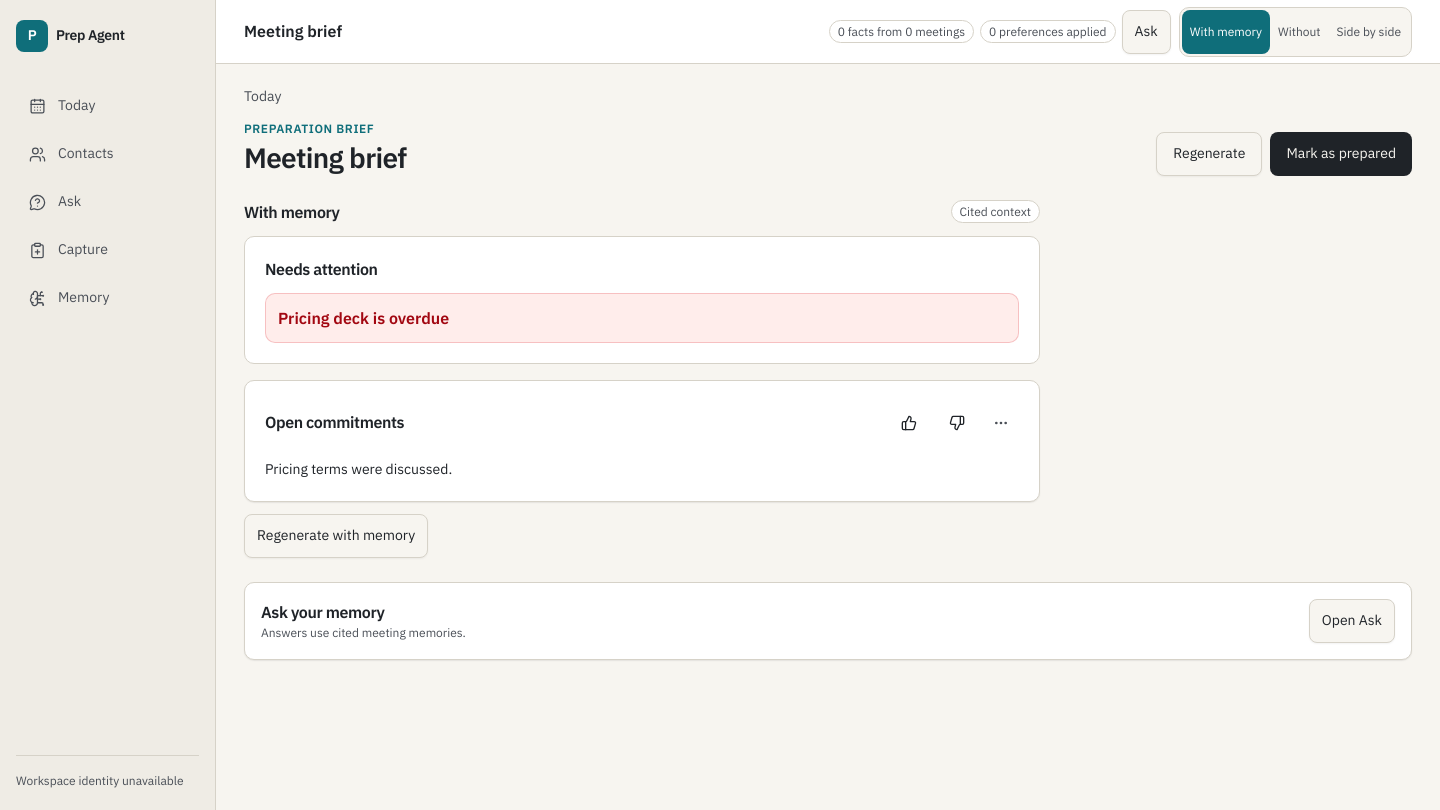
Scenario: Brief page › sends section feedback and refreshes the read-time brief
Click the button named "Thumbs up: useful" at {"x": 909, "y": 423}, box [887, 401, 931, 445]
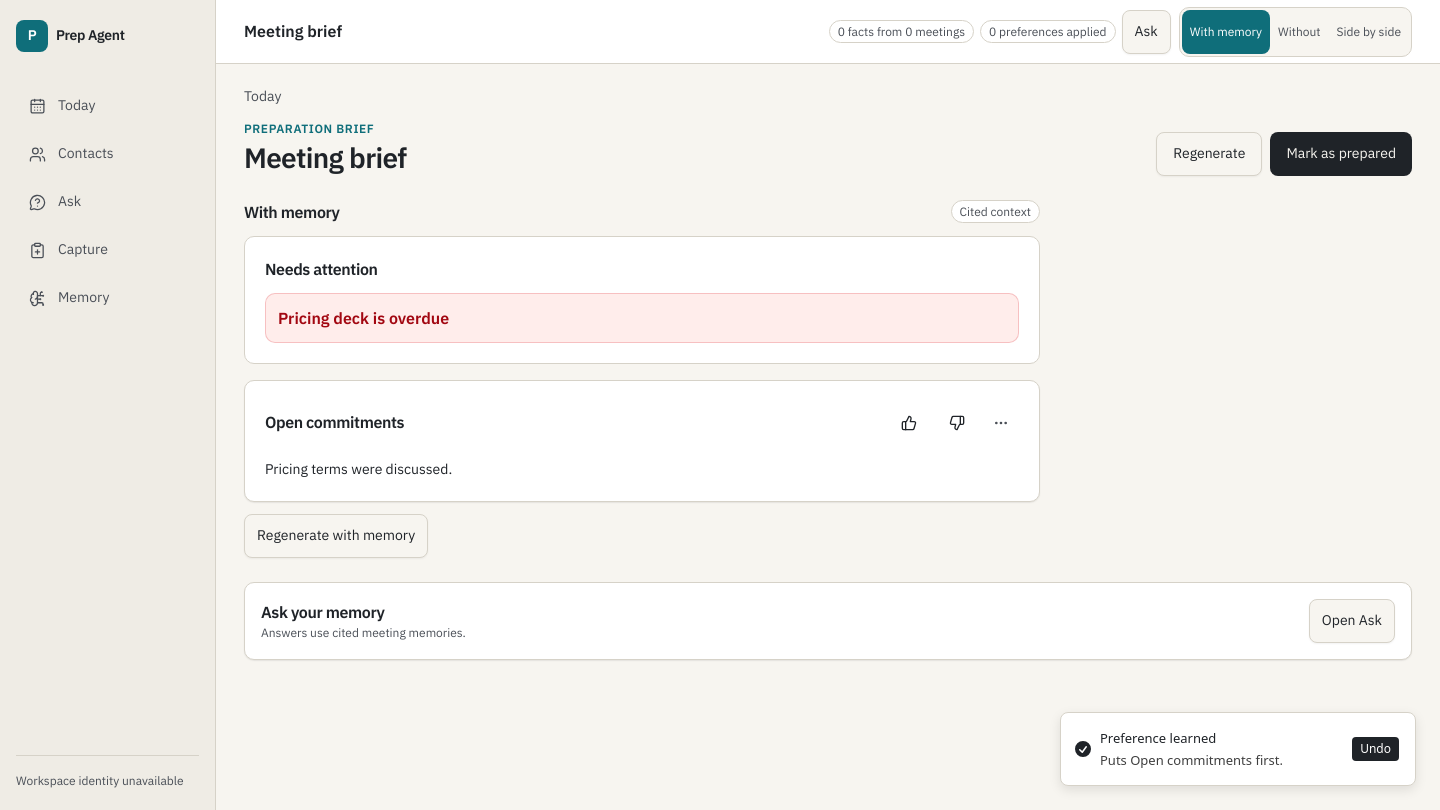
Expected: the text "Preference learned" is shown, [1100, 729, 1216, 747]
